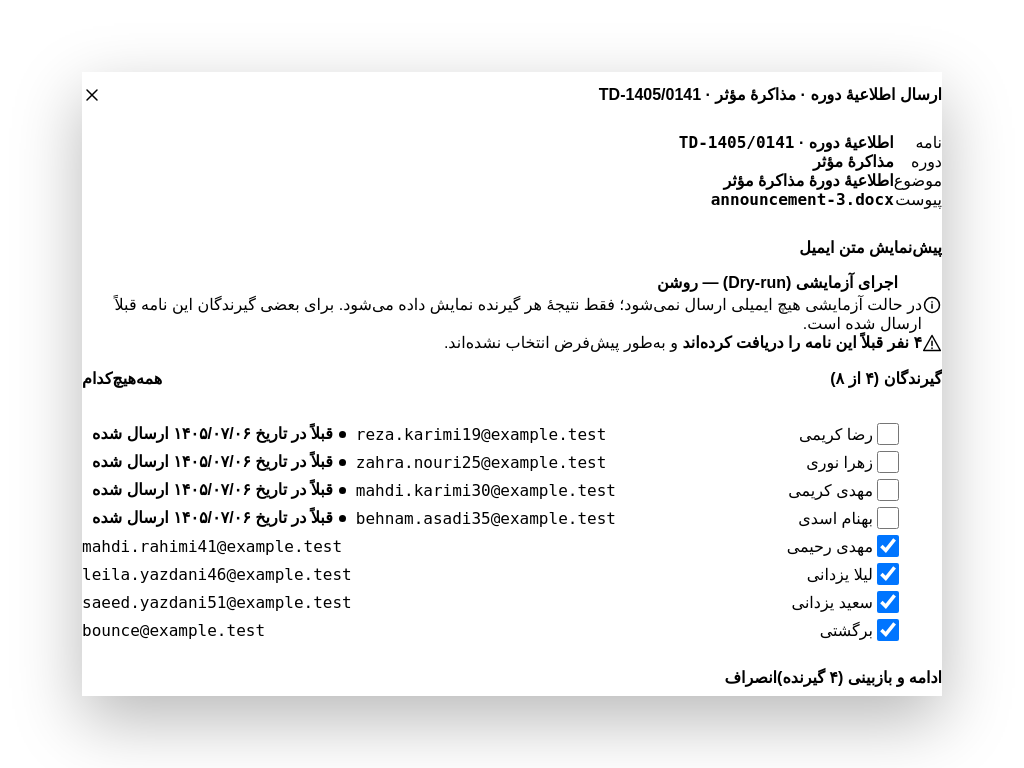
it: send-email dialog › warns per recipient who already received it, unchecks them, keeps dry-run ON, and warns again on a repeat real send
Later steps or results of the test are not shown.
Expected: the text "قبلاً در تاریخ ۱۴۰۵/۰۷/۰۶ ارسال شده" is shown 4 times, [82,421,356,447]; [82,449,356,475]; [82,477,356,503]; [82,505,356,531]
Expected: the switch with test id "dry-run" is checked, [657,274,898,291]
# deliberately include one already-notified person and switch to a real send
Click the checkbox named "گیرنده ": click(888, 434) [877,423,899,445]
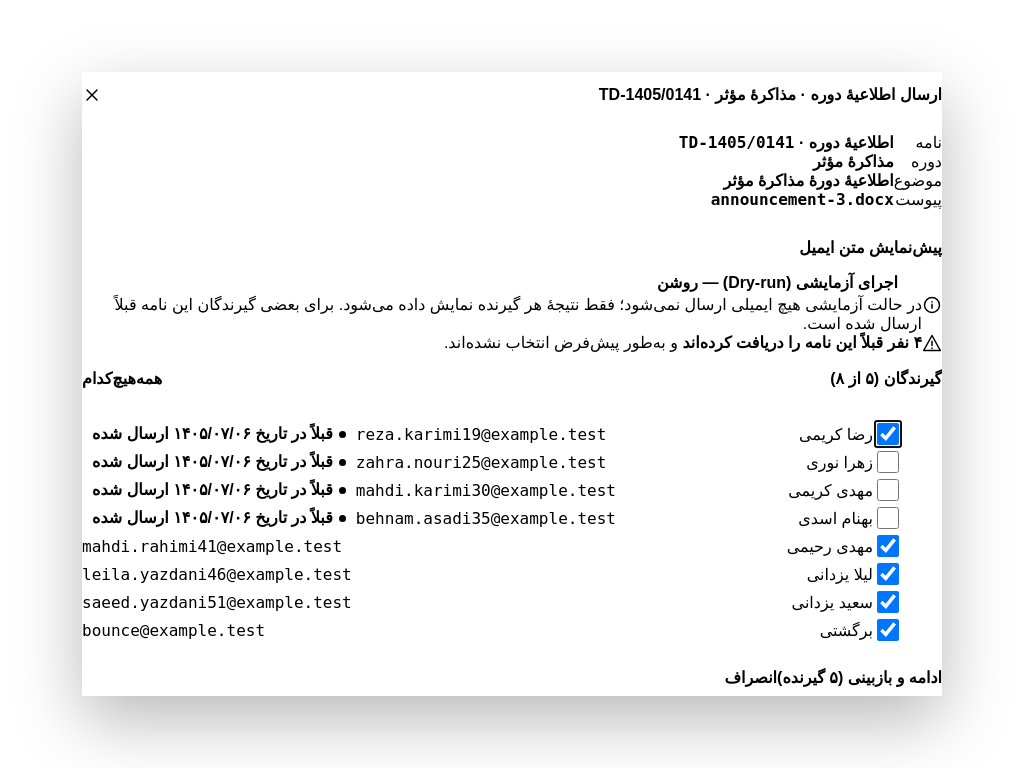
Click the switch with test id "dry-run": click(777, 282) [657,274,898,291]
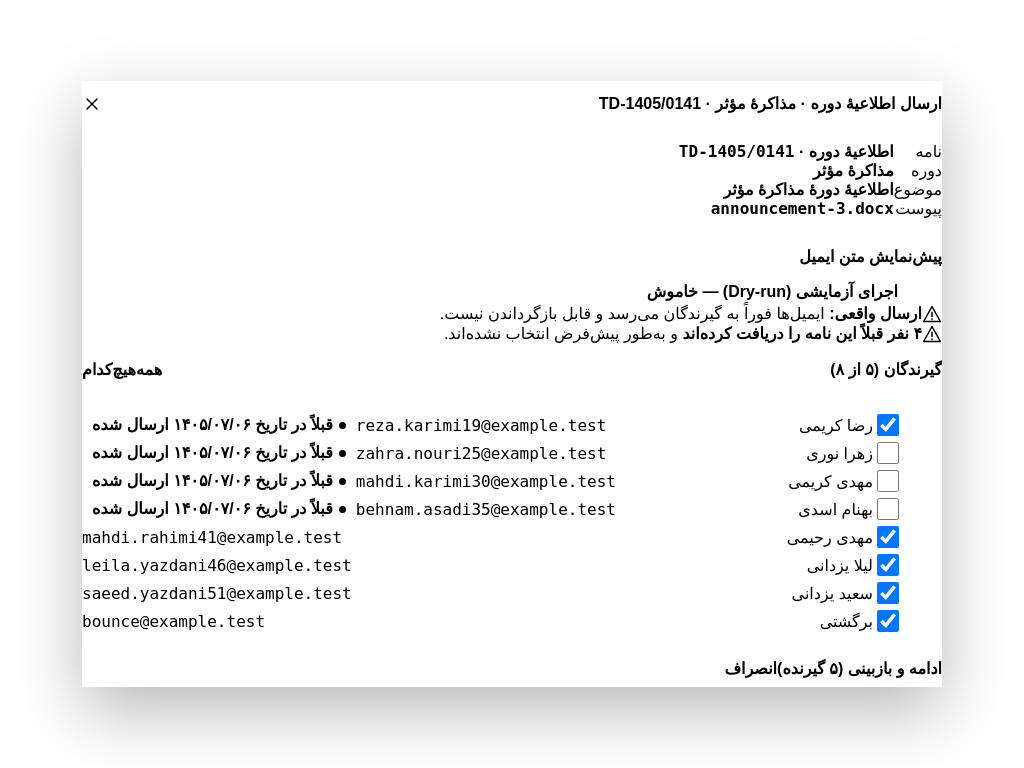
Click the button "ادامه و بازبینی (۵ گیرنده)": click(860, 669) [777,651,942,687]
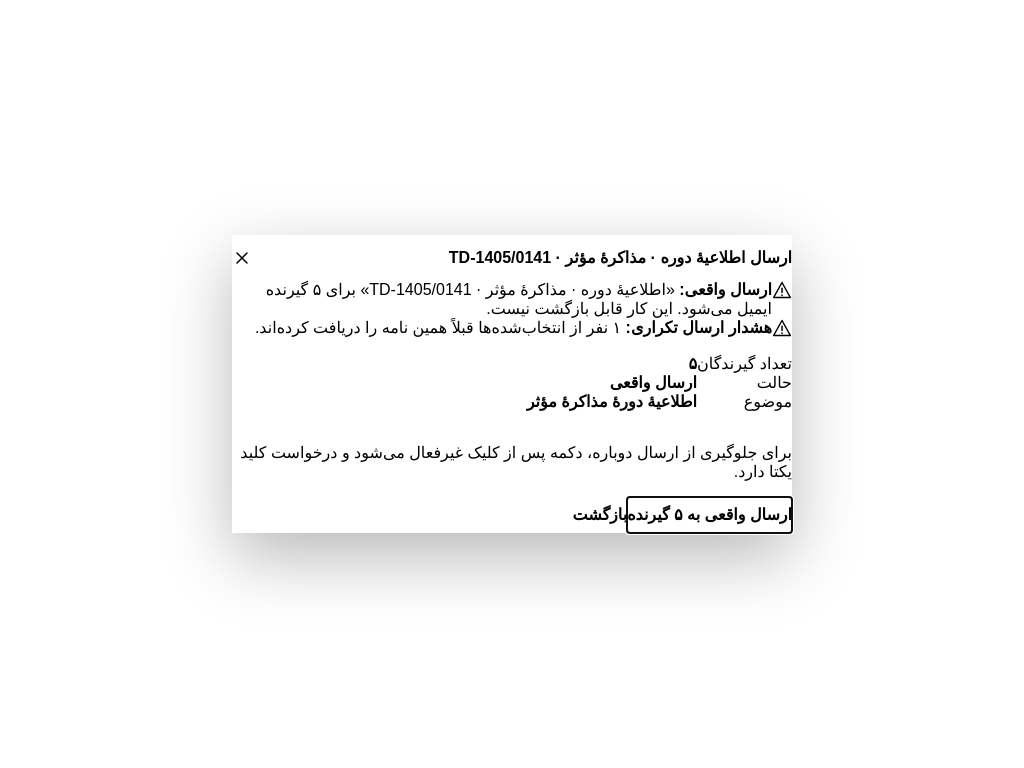
Now the text "هشدار ارسال تکراری:" is shown, box [626,319,772,336]
Now the text "قابل بازگشت نیست" is shown, box [266,281,772,317]
